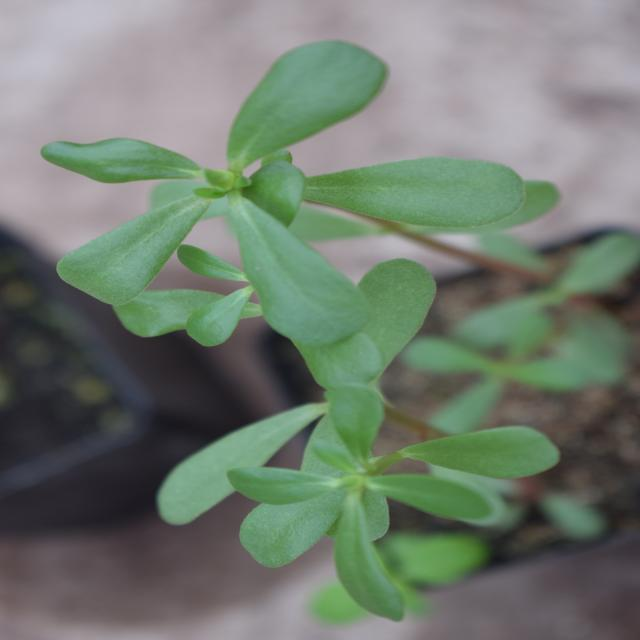purslane: (45, 59, 603, 553)
